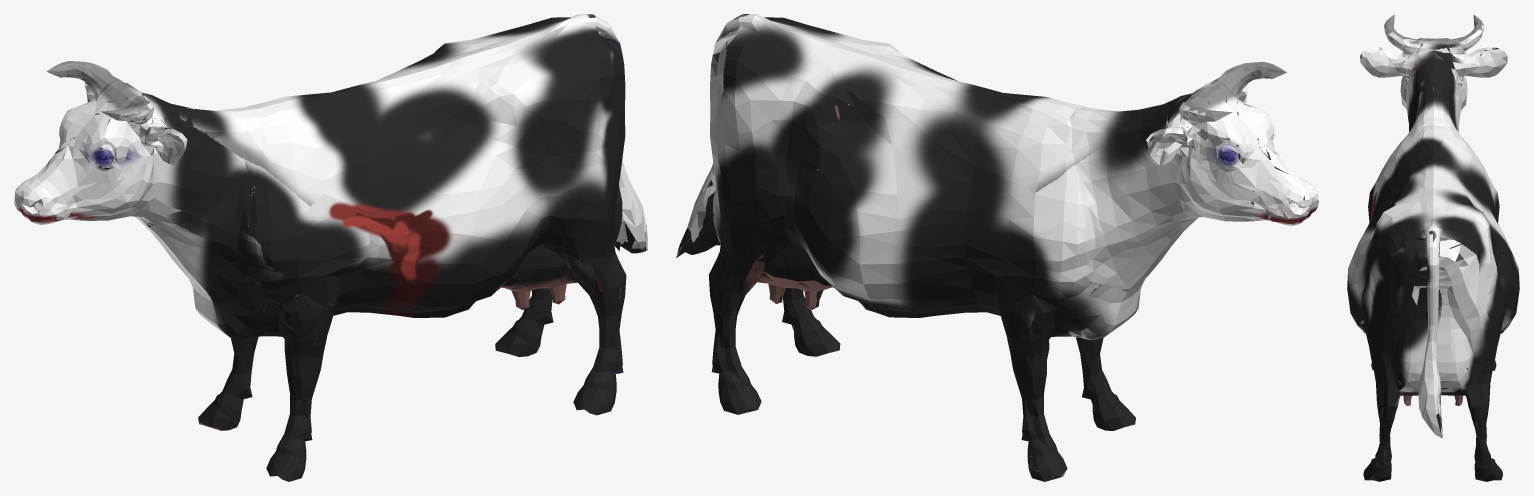
The model's file is cow.obj.
3 views of the same model, side by side, from view 1: azimuth 30°, elevation 25°; view 2: azimuth 150°, elevation 25°; view 3: azimuth 270°, elevation 25° (orthographic). The views are drawn at different scales.
Parts seen in each view (by area): view 1: cow; view 2: cow; view 3: cow.
Boxes of the visible parts, x1=… form: cow: x1=14, y1=14, x2=647, y2=481; cow: x1=676, y1=14, x2=1318, y2=481; cow: x1=1347, y1=14, x2=1519, y2=481.
Size of the model in its own units: 0.2455 by 0.1504 by 0.08.
Materials: 1 (1 with a texture image).
